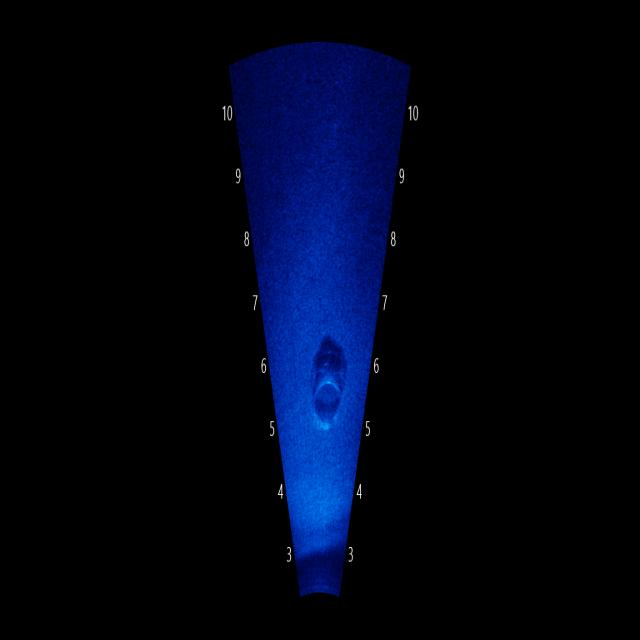circle: (305, 349, 360, 438)
